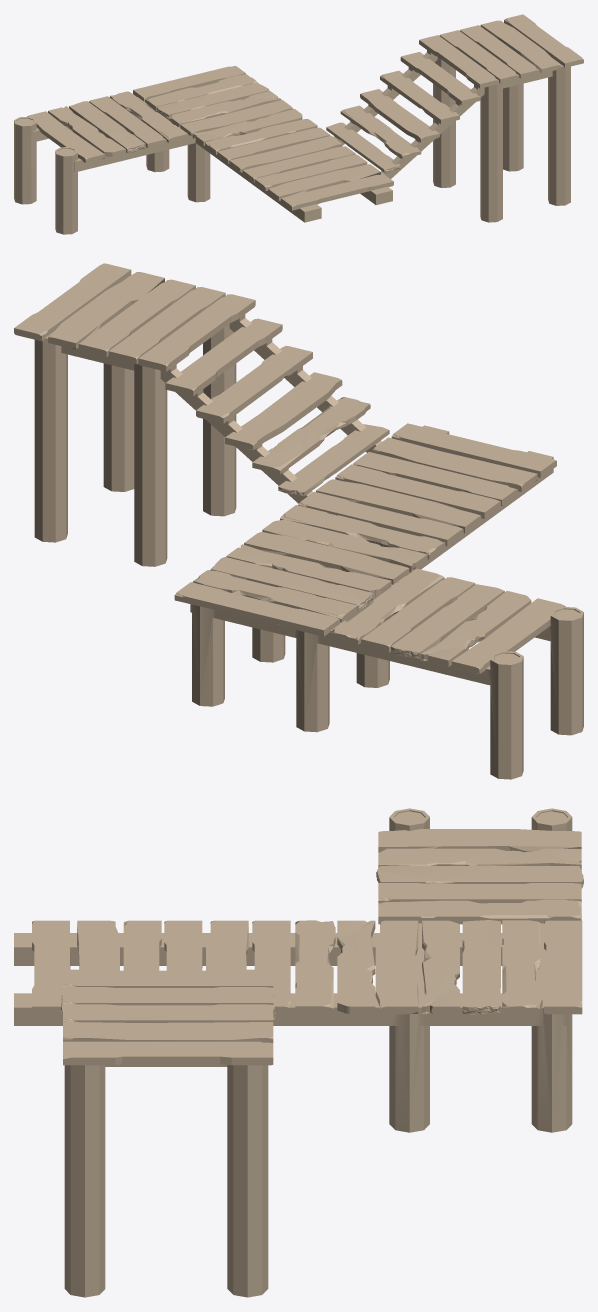
File: Pomost 1.fbx
The picture shows the model from 3 angles, top to bottom: view 1: azimuth 30°, elevation 25°; view 2: azimuth 150°, elevation 25°; view 3: azimuth 270°, elevation 25°; orthographic projection. The views are drawn at different scales.
Visible parts, largest first — view 1: słupki_Podstawa_1_1; view 2: słupki_Podstawa_1_1; view 3: słupki_Podstawa_1_1.
Boxes of the visible parts, box(x1,y1,x2,y2) form: słupki_Podstawa_1_1: box(14, 14, 583, 234); słupki_Podstawa_1_1: box(14, 263, 583, 779); słupki_Podstawa_1_1: box(14, 808, 583, 1297).
Bounding box in the file's own units: 1258 × 401 × 841.
